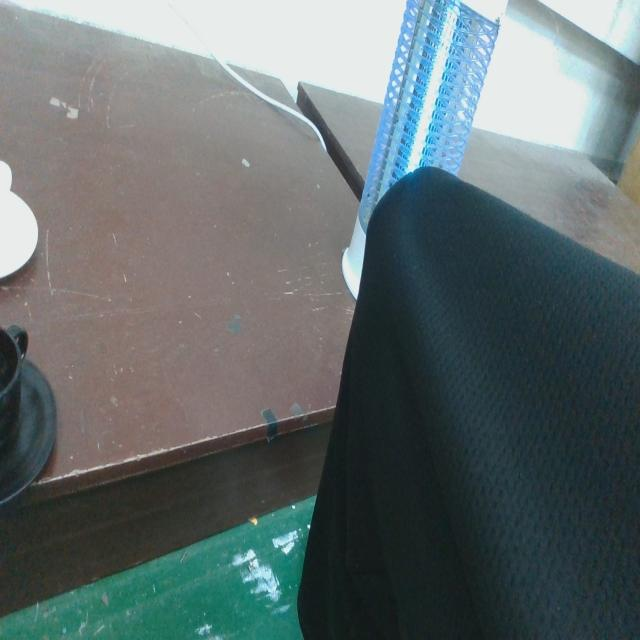black: (0, 319, 60, 515)
white: (0, 155, 41, 283)
